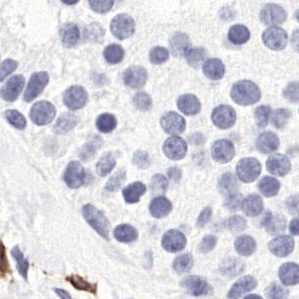Lymphocyte: (60, 266, 99, 294)
